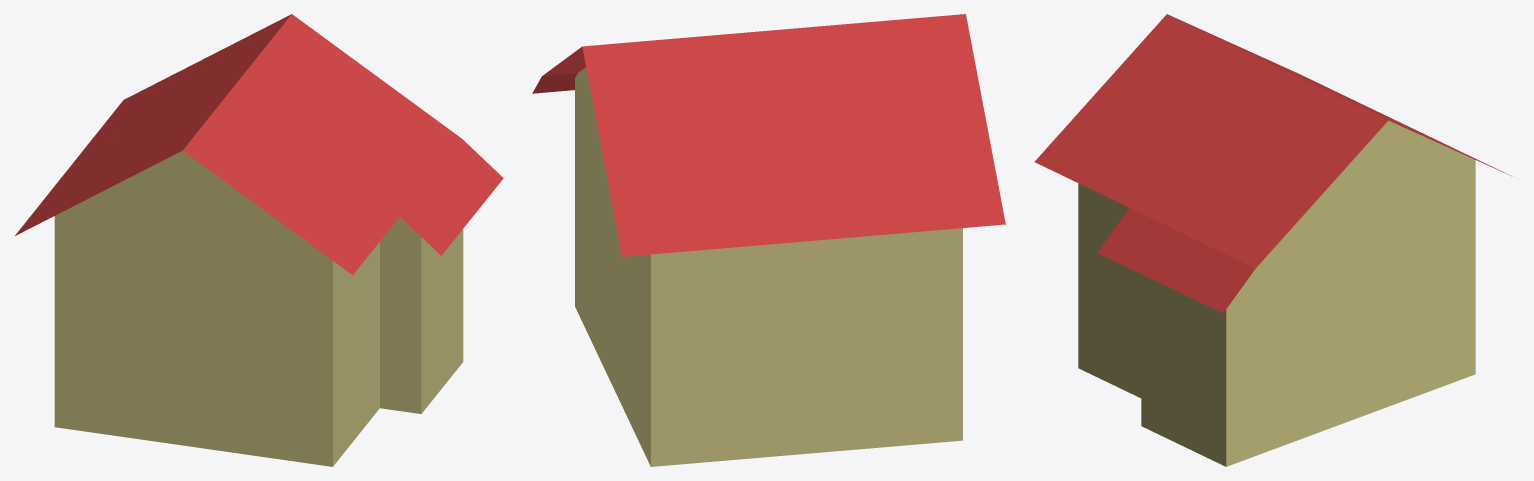
3 renders of one model, left to right at view 1: azimuth 30°, elevation 25°; view 2: azimuth 150°, elevation 25°; view 3: azimuth 270°, elevation 25°, orthographic. The views are drawn at different scales.
Bounding box in the file's own units: 16.39 × 15.52 × 10.72.
